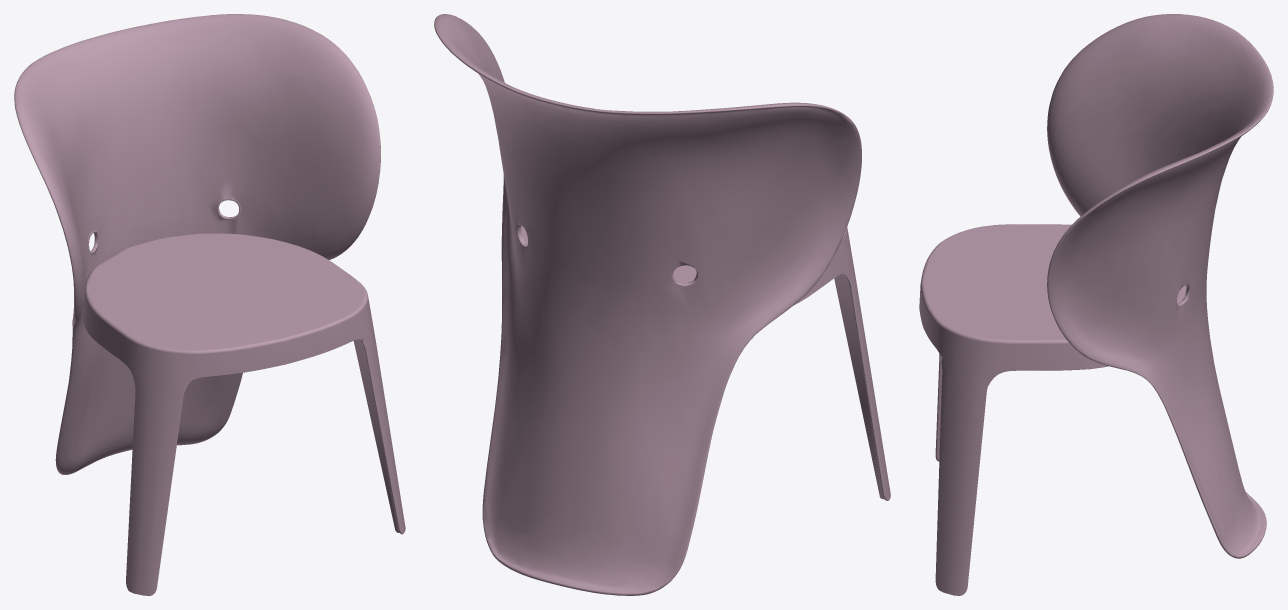
Rendered from B0814SVJ1H.glb.
The picture shows the model from 3 angles, left to right: view 1: azimuth 30°, elevation 25°; view 2: azimuth 150°, elevation 25°; view 3: azimuth 270°, elevation 25°; orthographic projection. The views are drawn at different scales.
Parts seen in each view (by area): view 1: RootNode; view 2: RootNode; view 3: RootNode.
Boxes of the visible parts, x1=… form: RootNode: x1=14, y1=14, x2=405, y2=595; RootNode: x1=434, y1=14, x2=890, y2=595; RootNode: x1=919, y1=14, x2=1273, y2=595.
Size of the model in its own units: 0.4505 by 0.554 by 0.4021.
